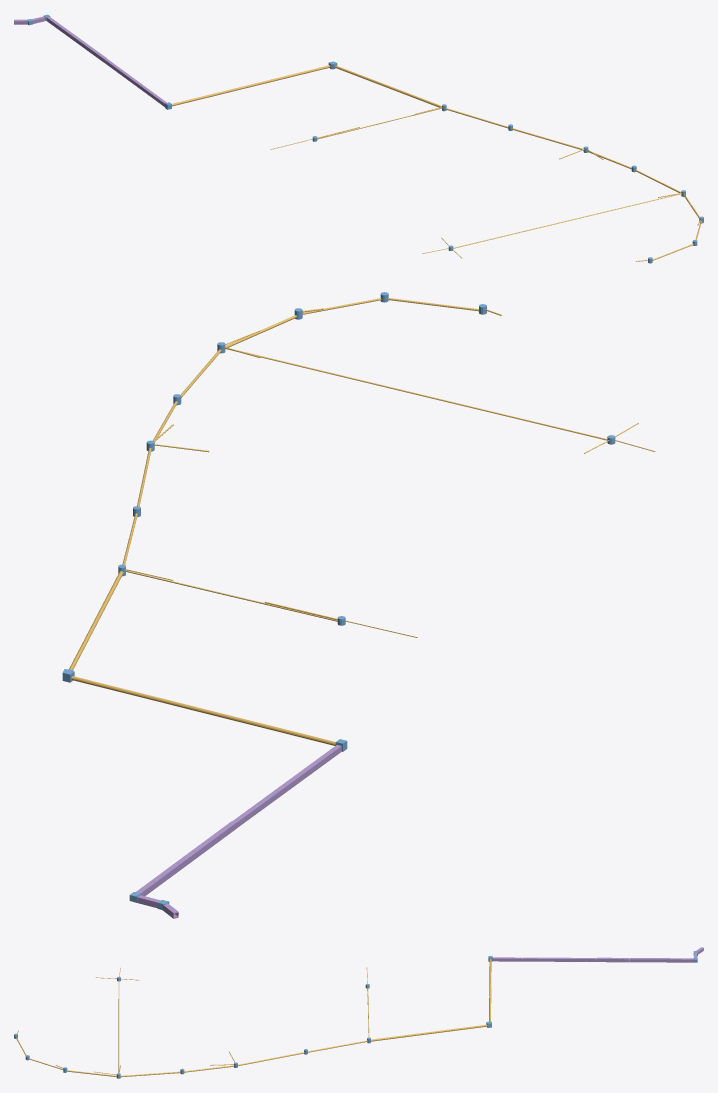
File: 500125-CSSP001-780-XX-MD-ST-000351.glb
3 views of the same model, one above another, from view 1: azimuth 30°, elevation 25°; view 2: azimuth 150°, elevation 25°; view 3: azimuth 270°, elevation 25° (orthographic). The views are drawn at different scales.
Visible parts, largest first — view 1: 500125-CSSP001-780-XX-MD-ST-000351#BOX002; view 2: 500125-CSSP001-780-XX-MD-ST-000351#BOX002; view 3: 500125-CSSP001-780-XX-MD-ST-000351#BOX002.
Part boxes in pixels (x1,y1,x2,y2): 500125-CSSP001-780-XX-MD-ST-000351#BOX002: [49, 19, 166, 106]; 500125-CSSP001-780-XX-MD-ST-000351#BOX002: [140, 745, 341, 895]; 500125-CSSP001-780-XX-MD-ST-000351#BOX002: [492, 957, 689, 962].
Size of the model in its own units: 157 by 4.96 by 345.
